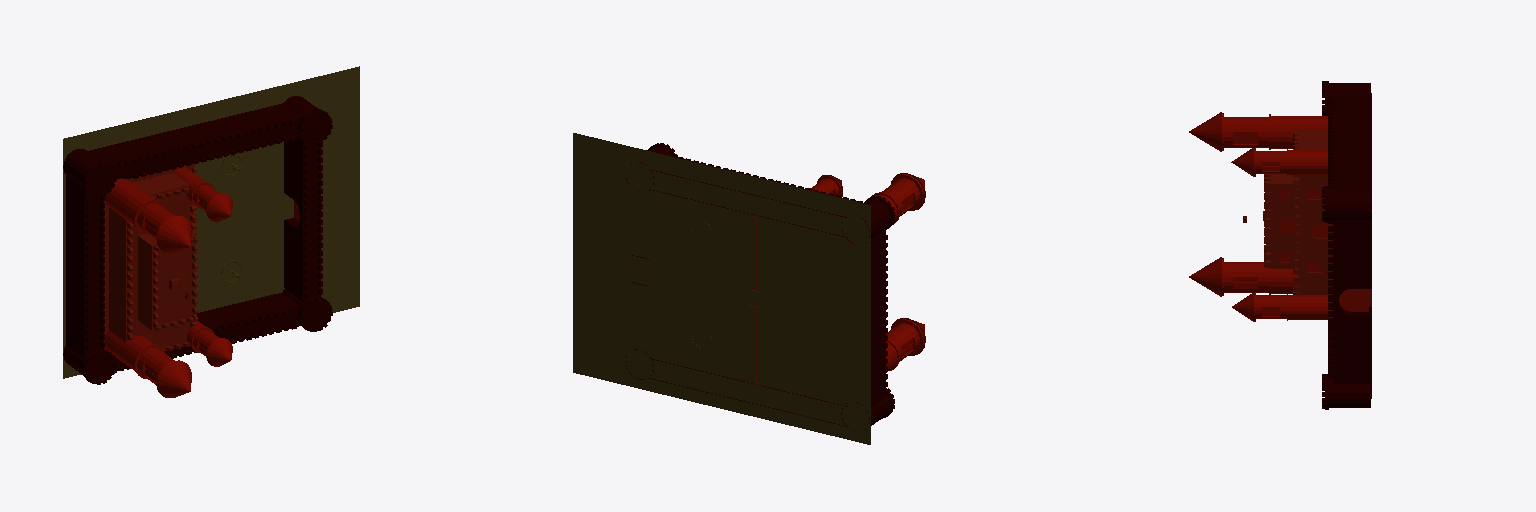
File: castle.obj
The picture shows the model from 3 angles: view 1: azimuth 30°, elevation 25°; view 2: azimuth 150°, elevation 25°; view 3: azimuth 270°, elevation 25°; orthographic projection.
Visible parts, largest first — view 1: Towers_Doors_and_Windows; view 2: Towers_Doors_and_Windows; view 3: Towers_Doors_and_Windows.
Boxes of the visible parts, x1,y1,x2,y2 form: Towers_Doors_and_Windows: [63, 66, 359, 397]; Towers_Doors_and_Windows: [573, 133, 925, 444]; Towers_Doors_and_Windows: [1189, 81, 1371, 409].
Bounding box in the file's own units: 75.6 × 58.11 × 40.26.